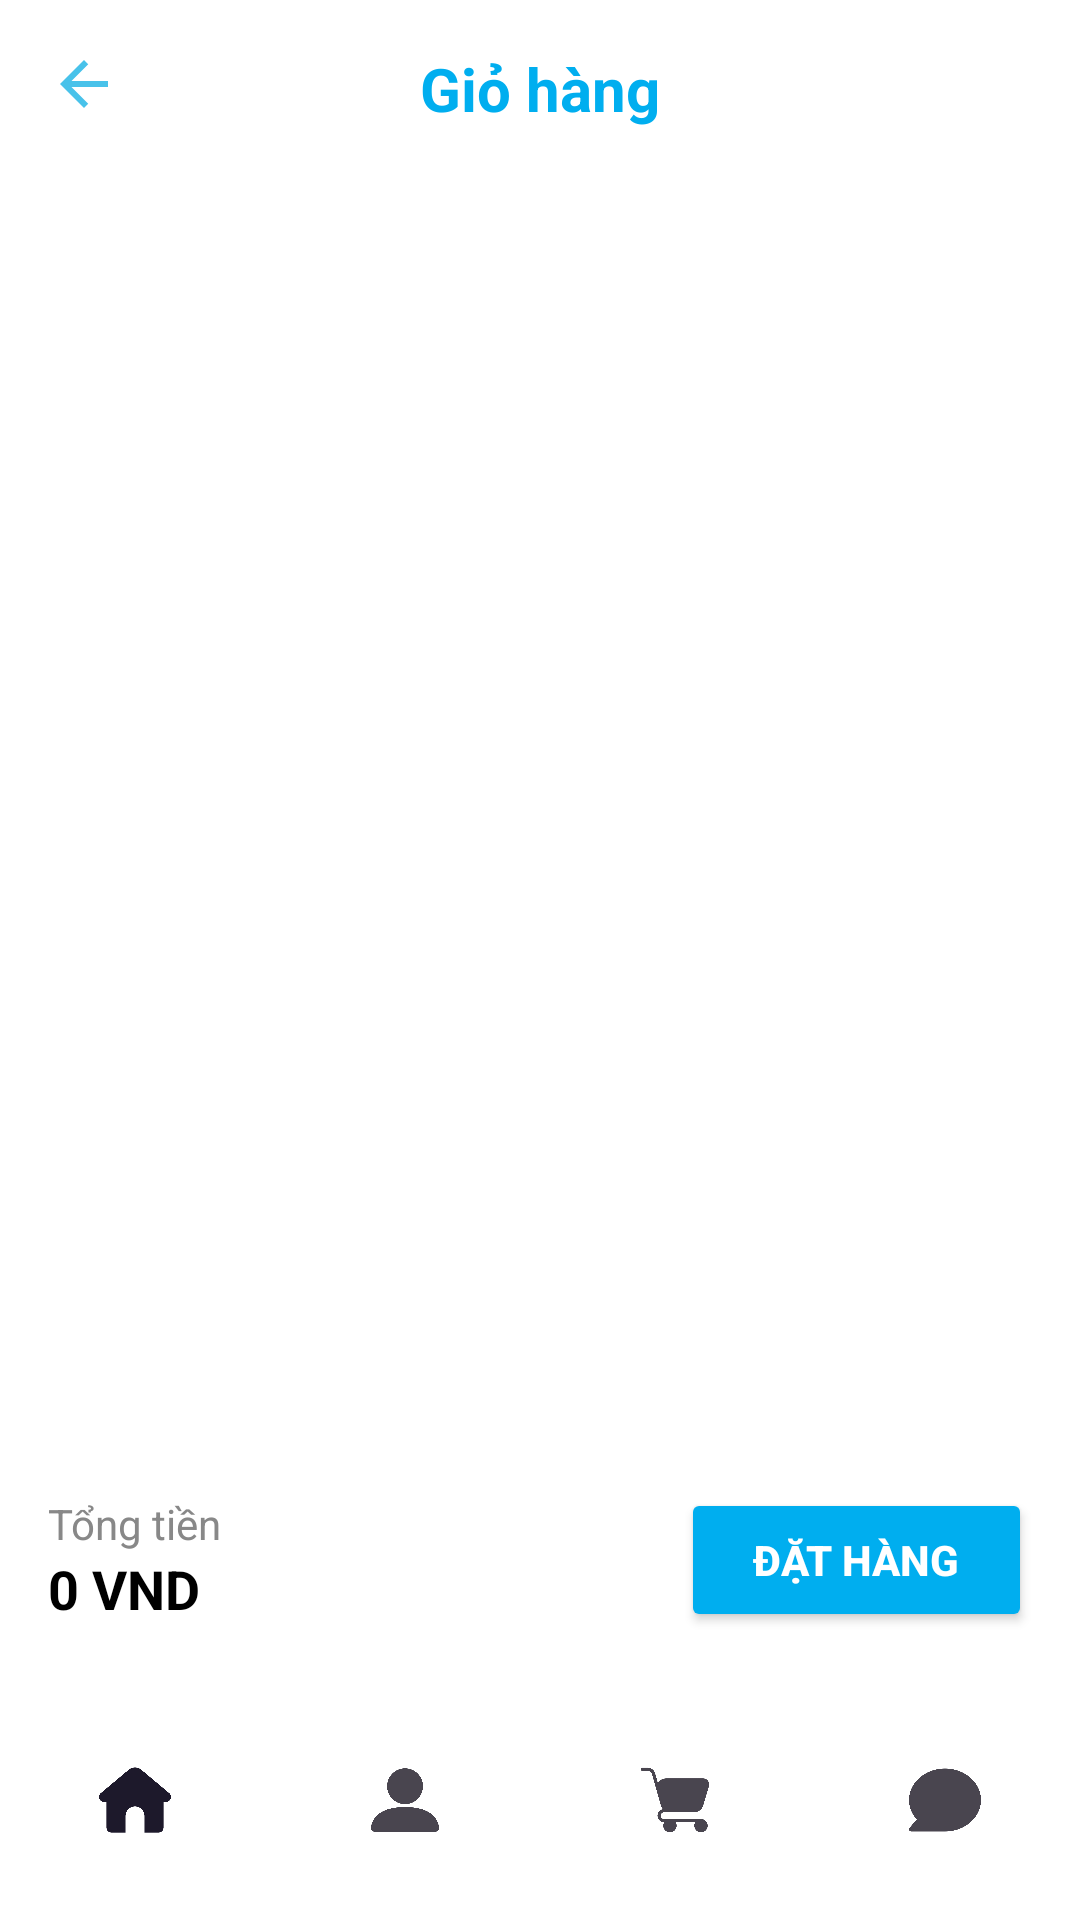

Named icons in this screenshot (1080*1920) and their centers, [x,y]:
Quay lại: [84,84]
